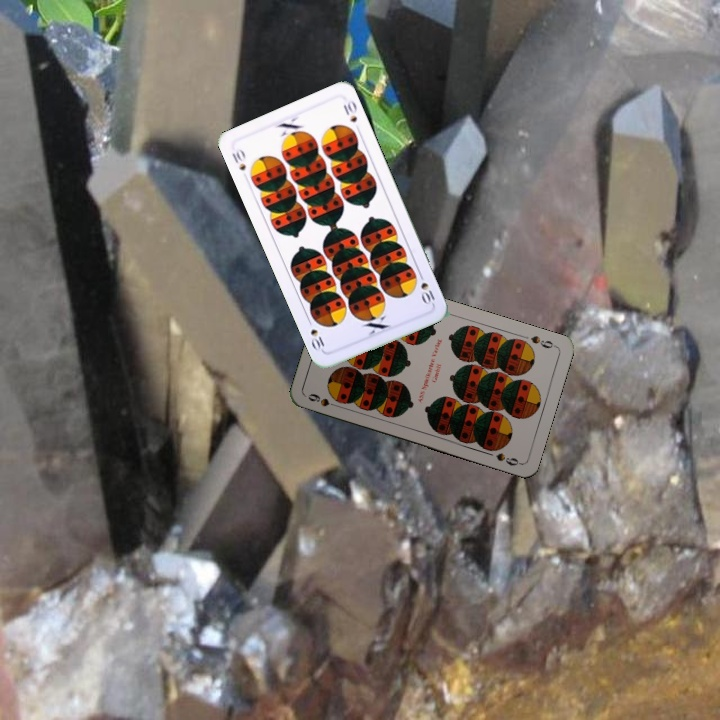S10: (415, 268, 437, 308), (228, 145, 248, 173)
S9: (304, 389, 343, 411), (527, 331, 559, 351)
